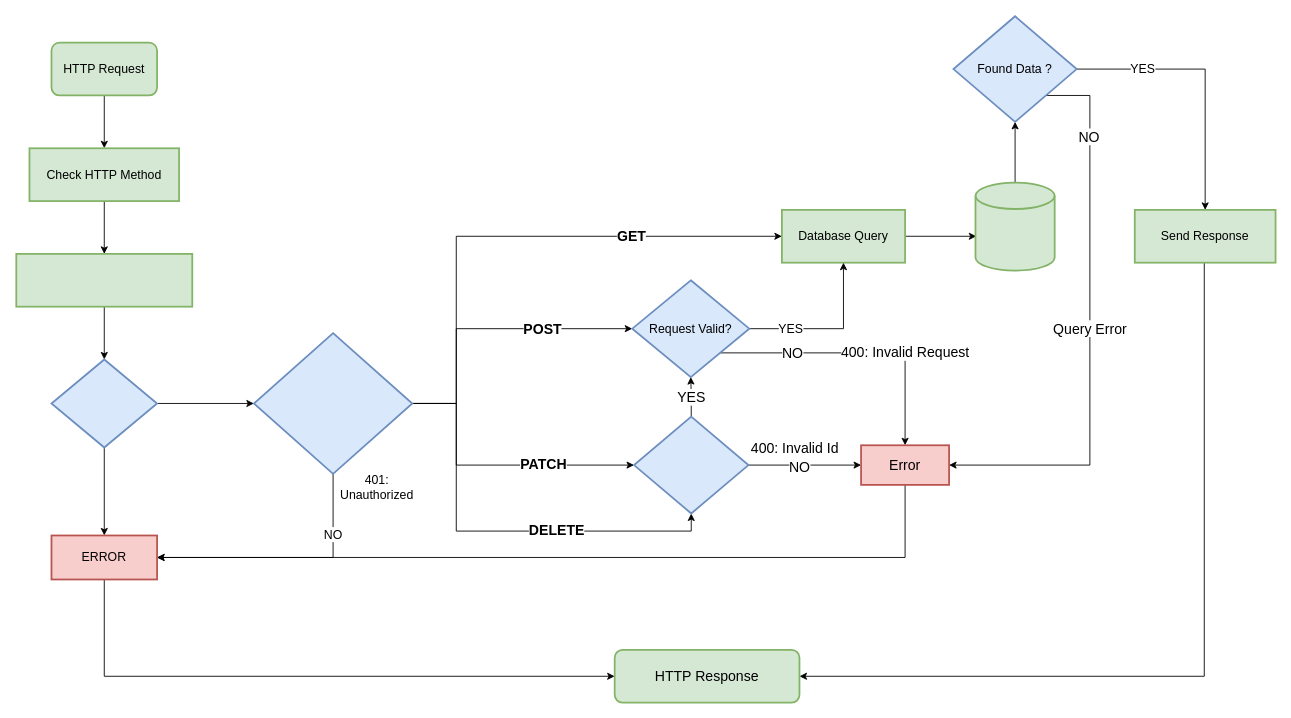
This 1291x718 diagram has some shape labels left out. The box of each missing label's shape, as (x1, y1, x2, y2) in pixels:
Authorized ?: (253, 332, 413, 474)
Check id, found?: (633, 415, 749, 514)
Database: (974, 181, 1055, 271)
Find Matching REST API URL: (15, 253, 193, 307)
URL Found?: (50, 358, 158, 448)
